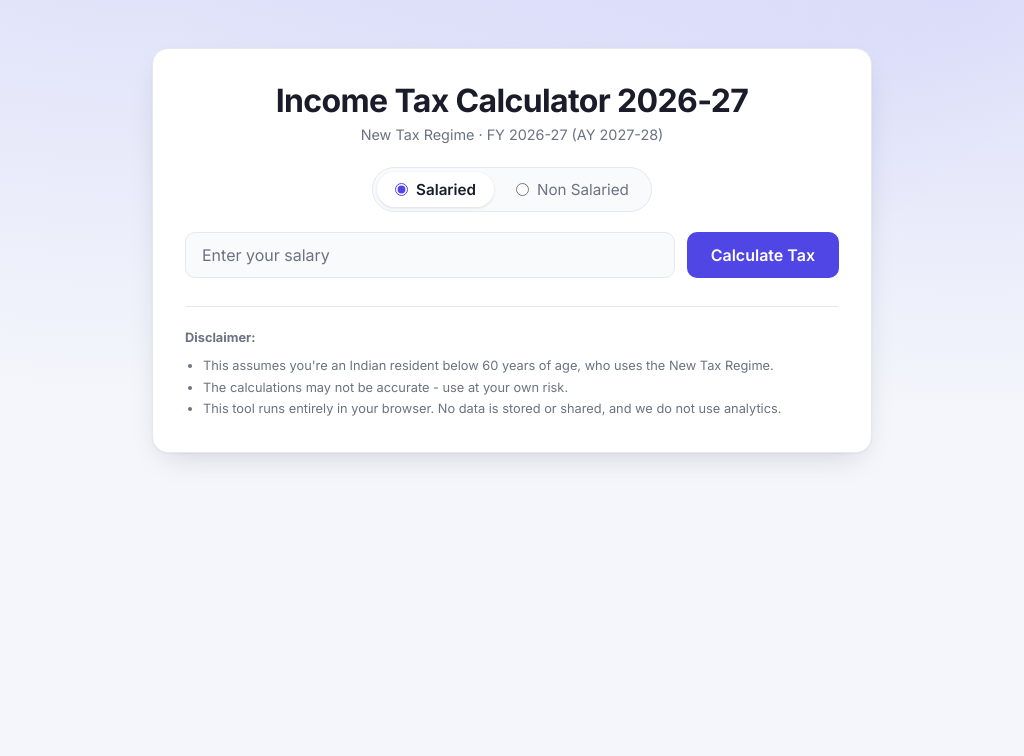
Test: TaxCalculator › calculates tax correctly for 10L income
The width and height of the screenshot is (1024, 756).
Type "1000000" into the field with placeholder "Enter your salary". click: point(430, 255)
box: [185,232,675,278]
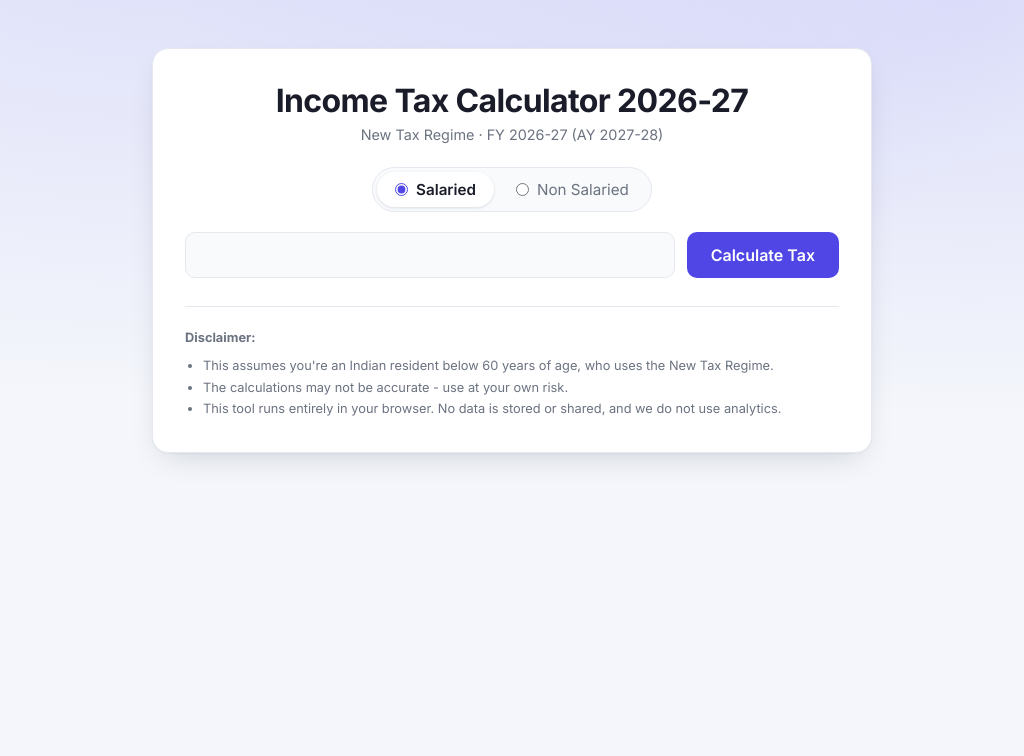
Click the button "Calculate Tax". click: point(763, 255)
box: [687,232,839,278]
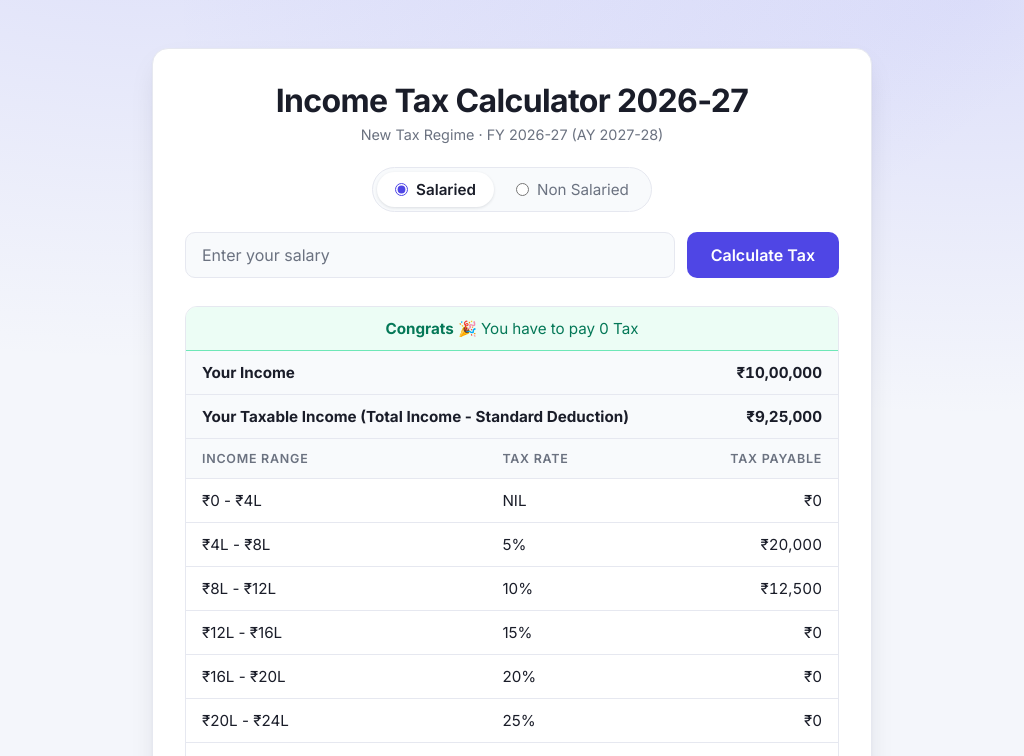
Check: the text "Congrats 🎉" is shown, box [386,319,477,338]
Check: the text "₹0 - ₹4L" is shown, box [186,478,486,522]
